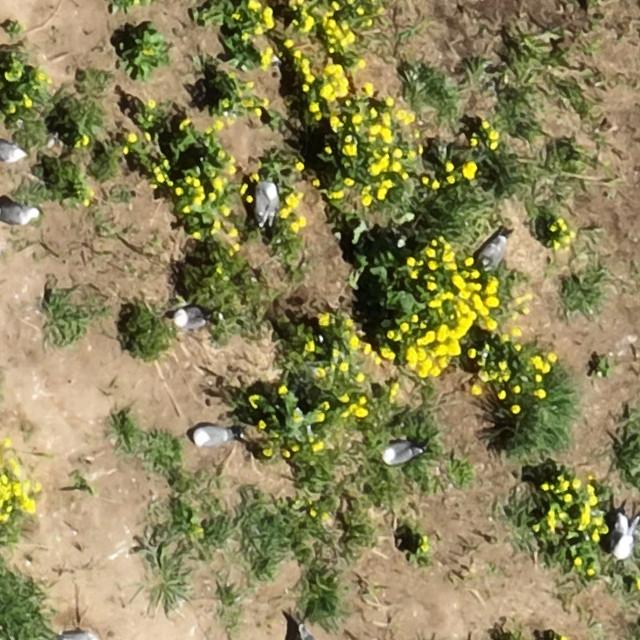umineko: (255, 181, 277, 222), (192, 428, 231, 447), (480, 234, 505, 263), (614, 522, 633, 560), (1, 204, 37, 223), (384, 444, 416, 464), (174, 308, 206, 327), (1, 141, 24, 160), (61, 630, 100, 639), (300, 628, 319, 639)
